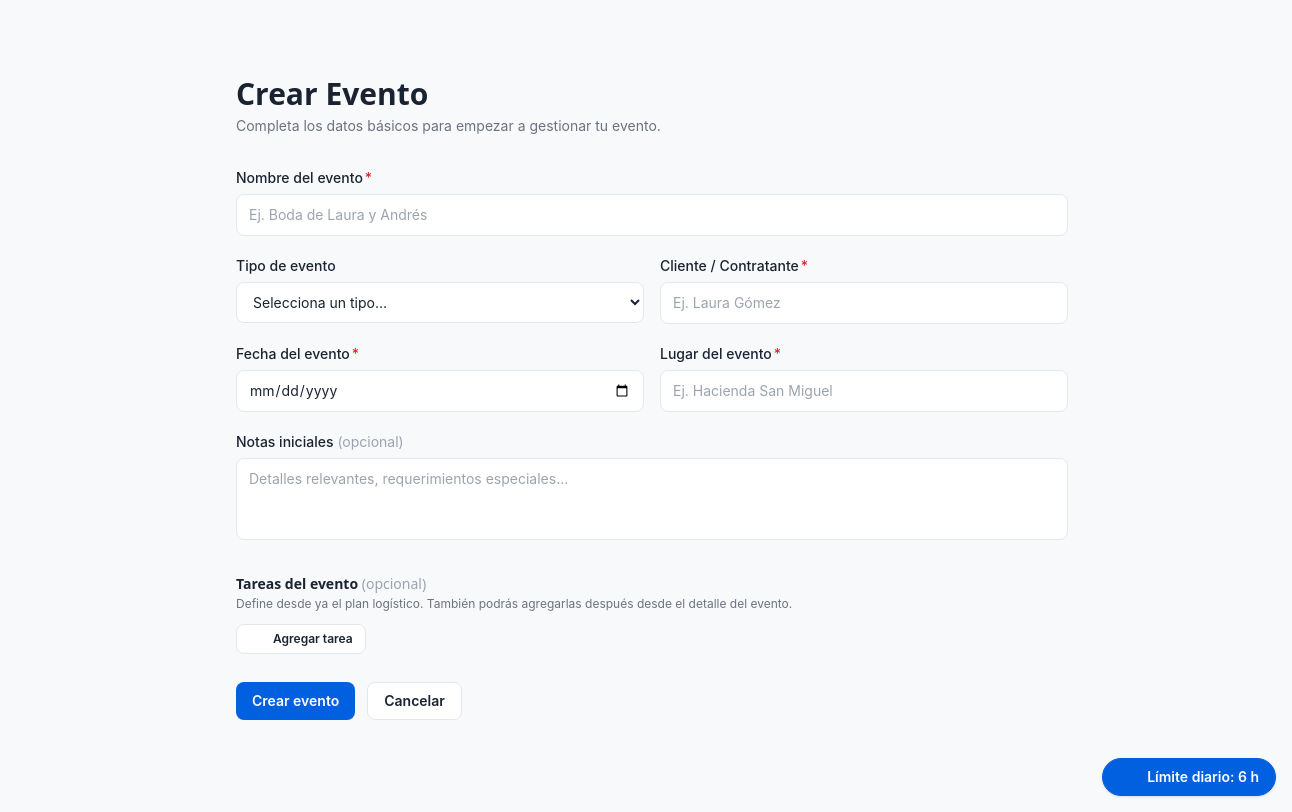
Test case: CreatePage › crea el evento con sus datos y navega al detalle
The image size is (1292, 812).
Type " Boda de Ana " into the field labelled "Nombre del evento*".
click(652, 215); type(" Boda de Ana ")  # box [236,194,1068,236]
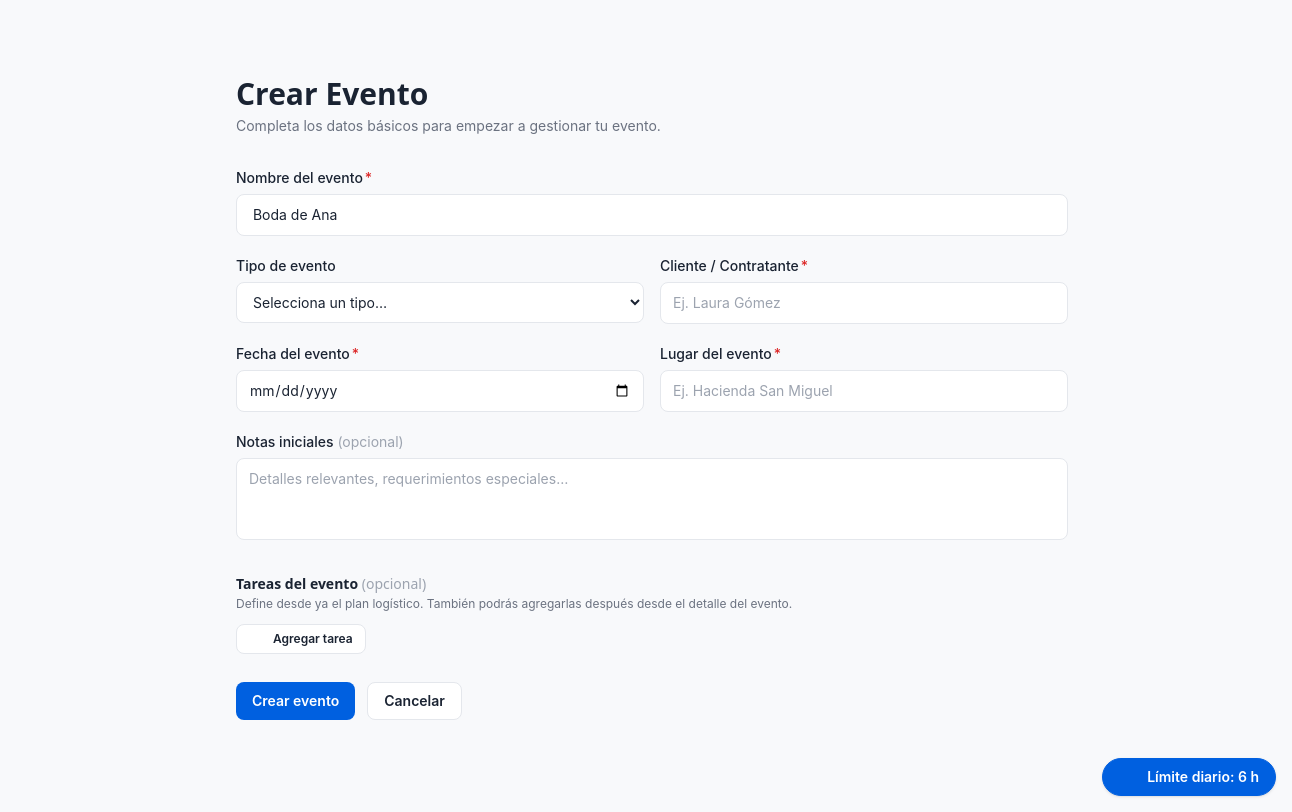
Select "Boda" in the dropdown labelled "Tipo de evento" at (440, 302), box [236,282,644,323]
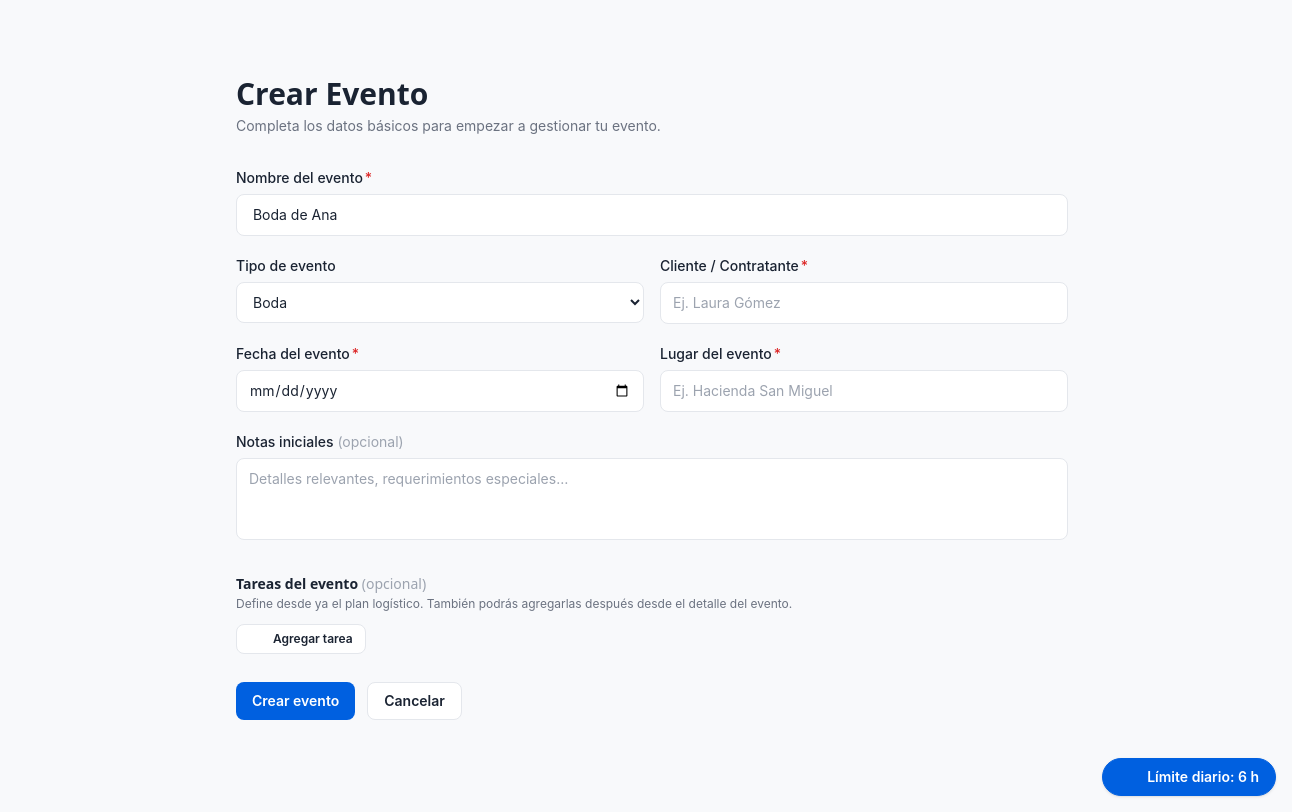
Type " Ana Pérez " into the field labelled "Cliente / Contratante*".
click(864, 303); type(" Ana Pérez ")  # box [660,282,1068,324]
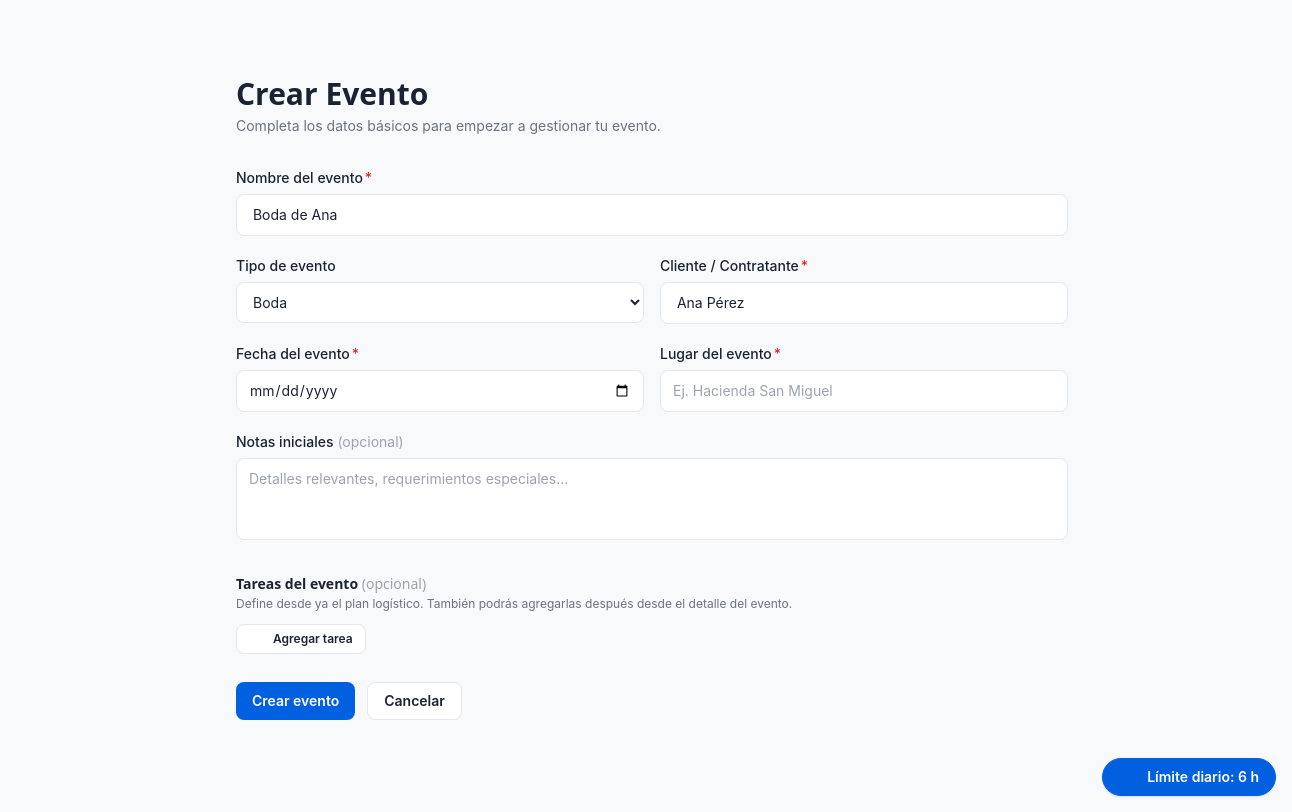
Type "2099-12-01" into the date field labelled "Fecha del evento*".
click(440, 391); type("2099-12-01")  # box [236,370,644,412]
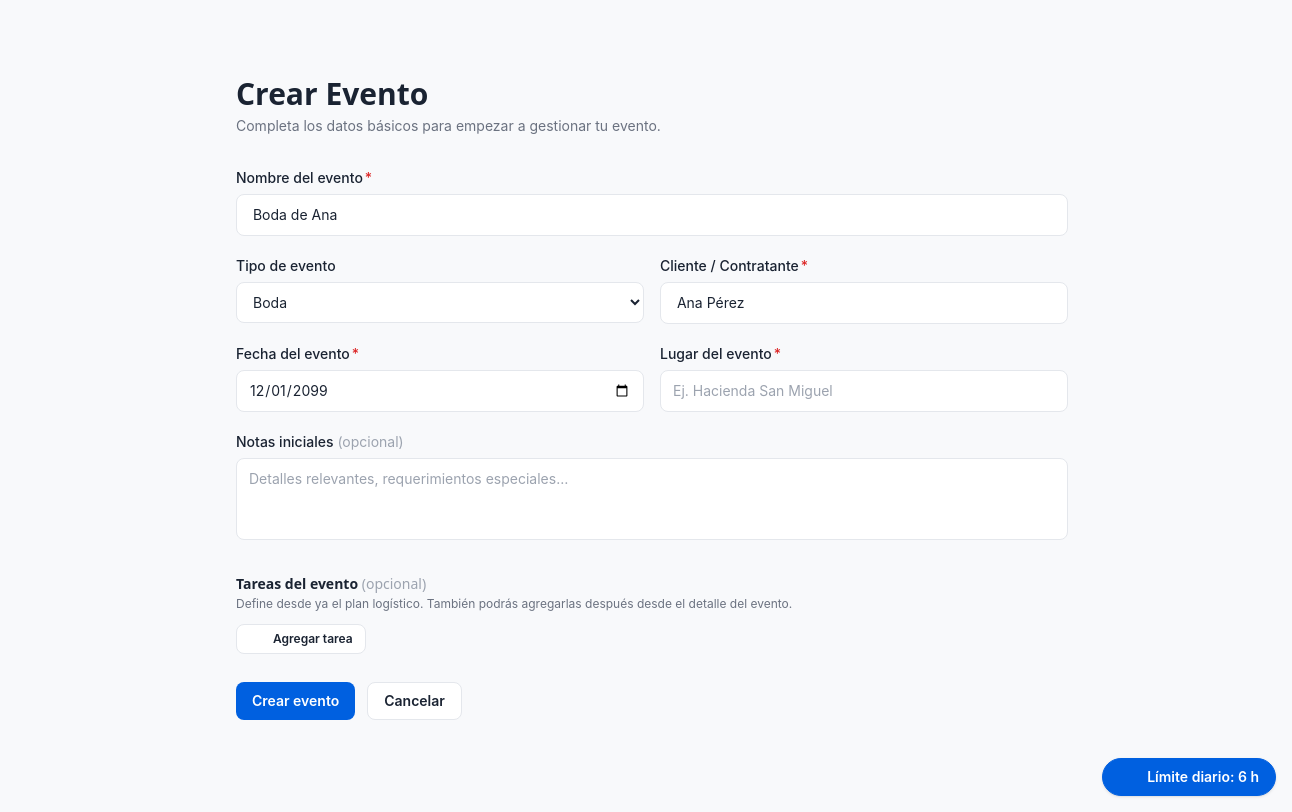
Type " Hacienda " into the field labelled "Lugar del evento*".
click(864, 391); type(" Hacienda ")  # box [660,370,1068,412]
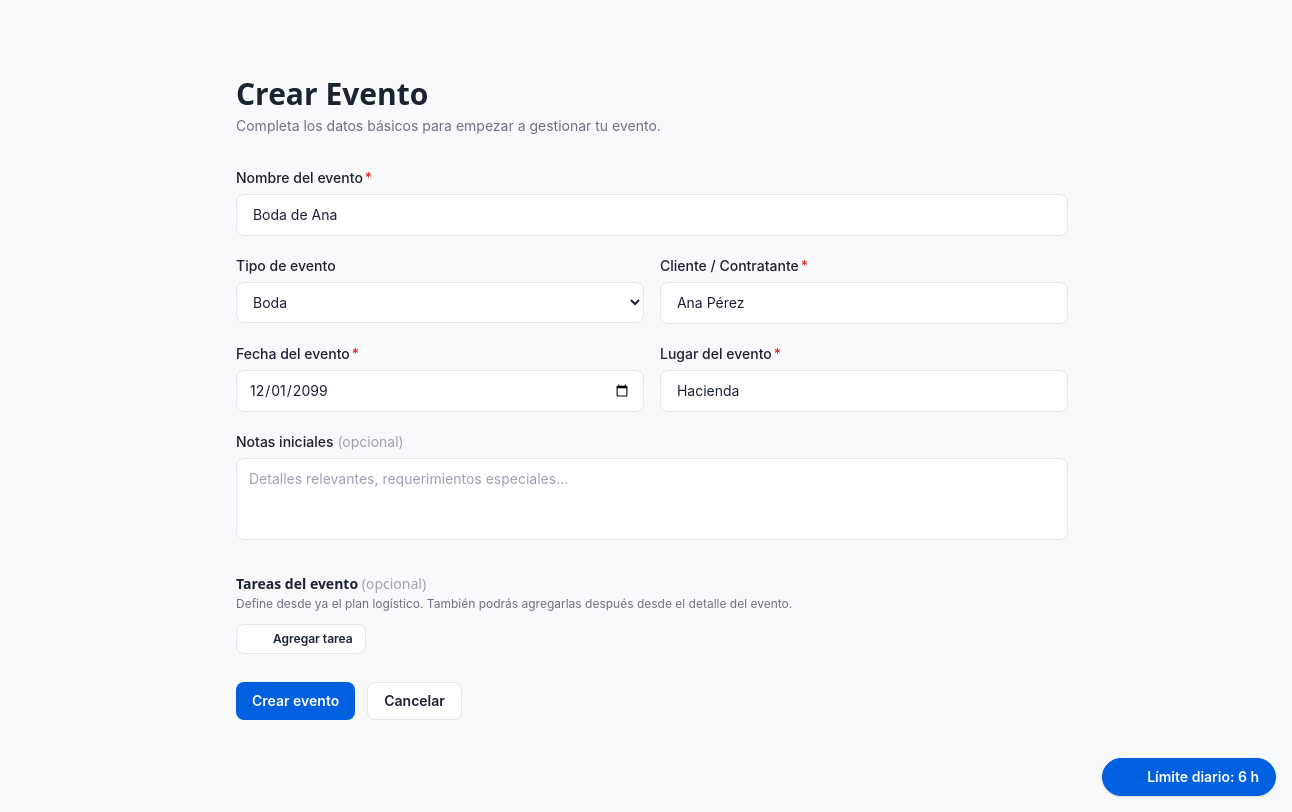
Click the button "Crear evento".
click(296, 701)  # box [236,682,355,720]
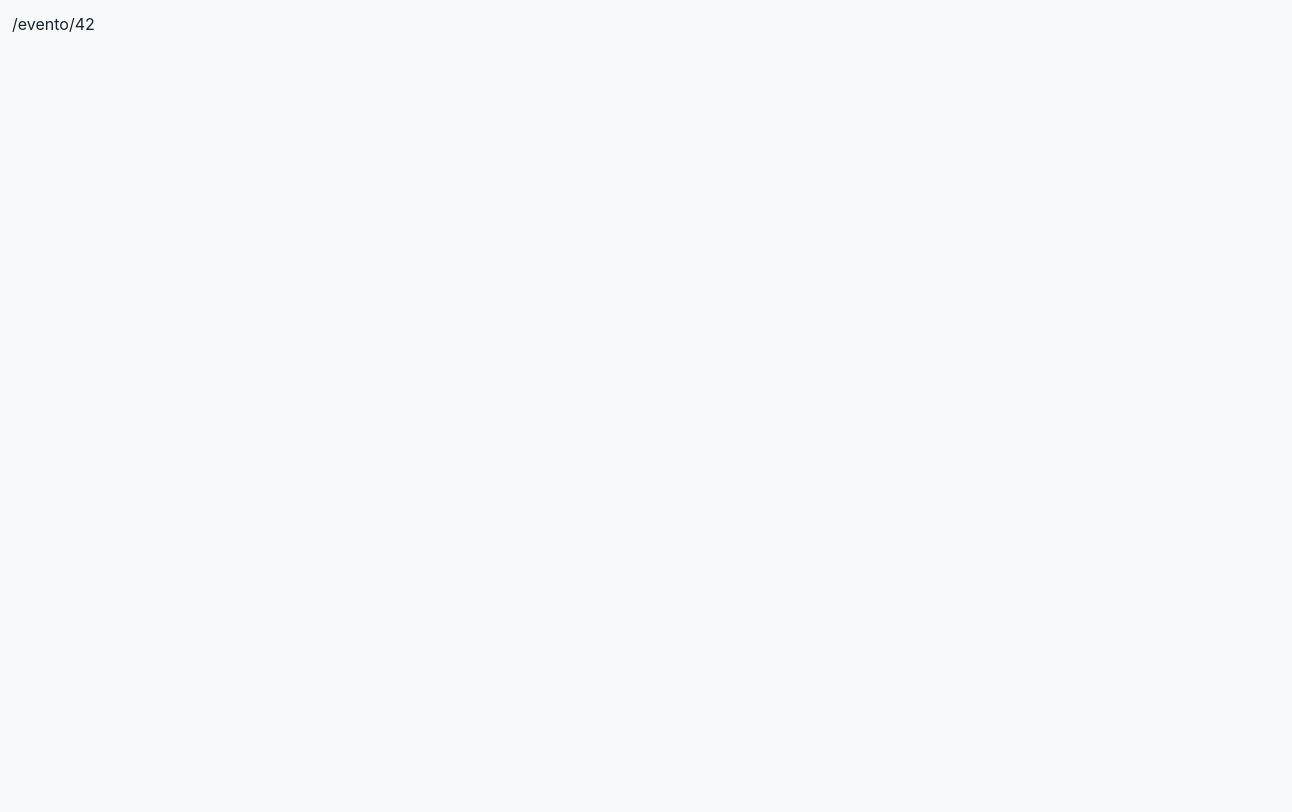
Now the text with test id "location" reads "/evento/42", box [12,14,95,34]
